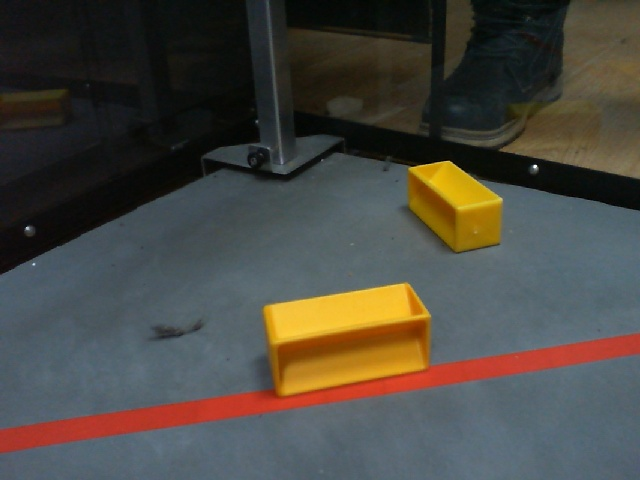YellowSample: (258, 279, 435, 400), (402, 158, 511, 254)
